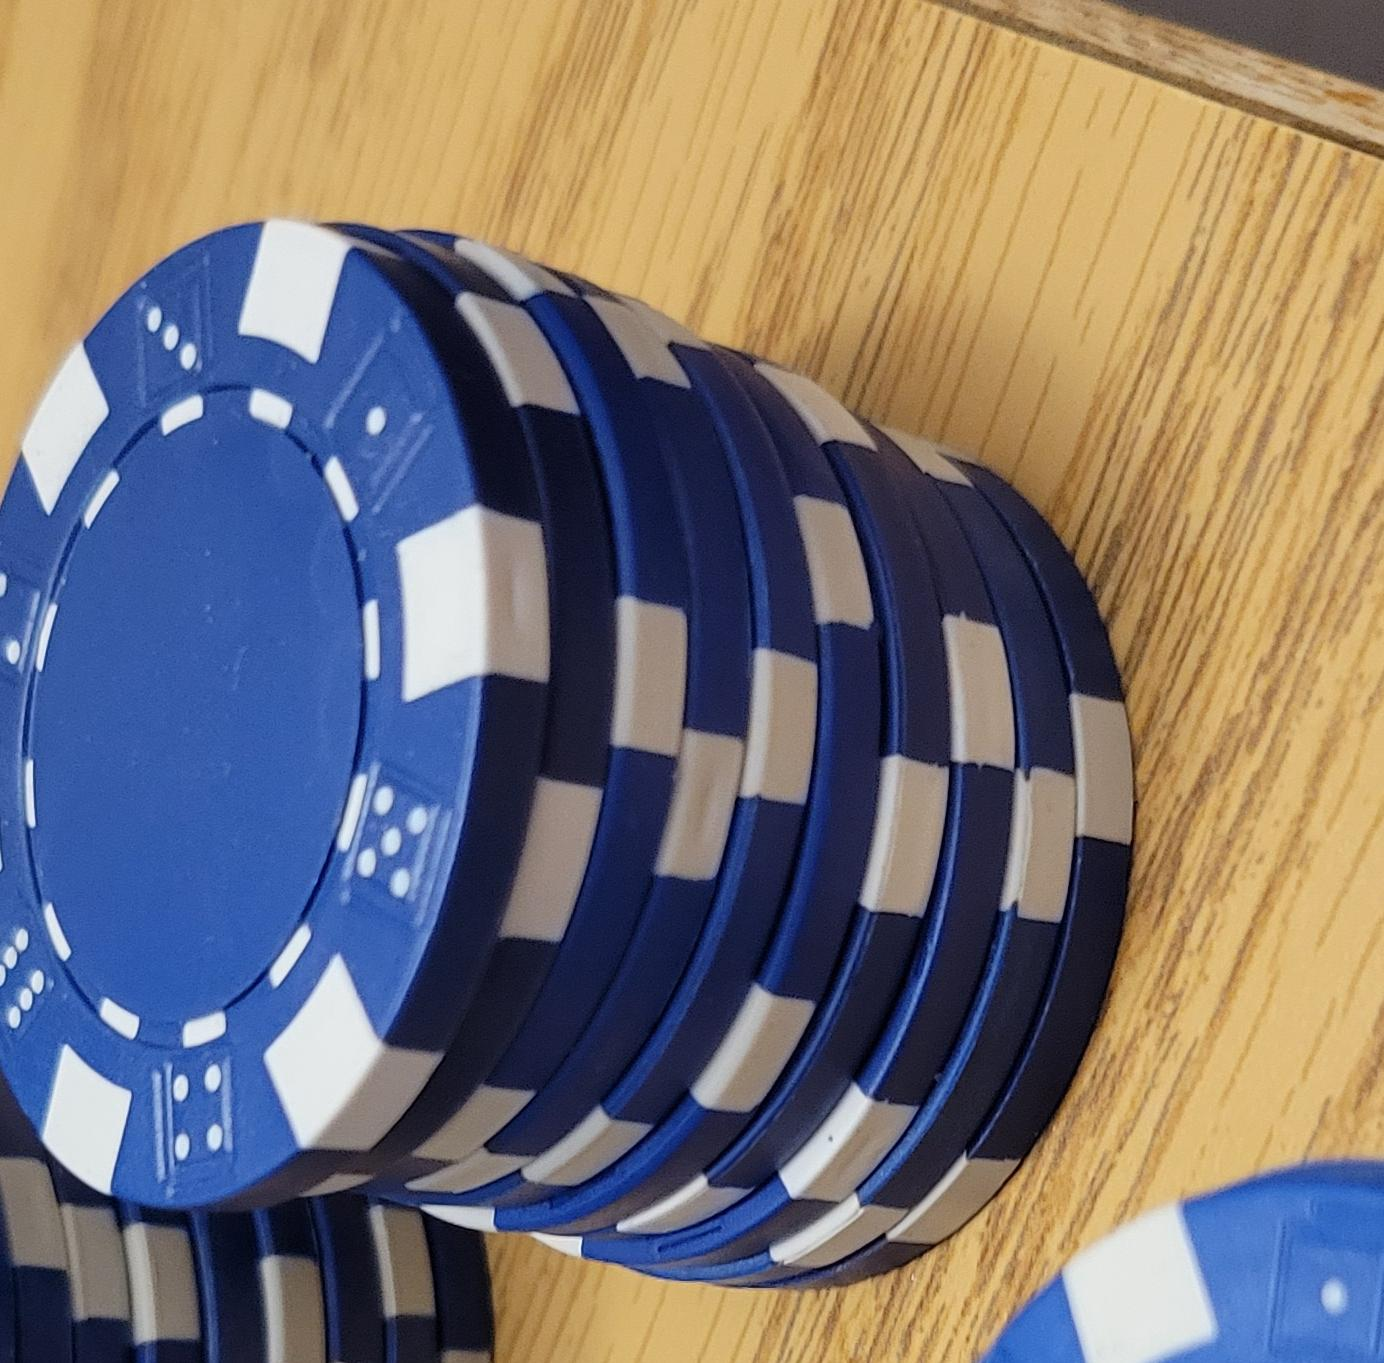Chip: (1, 46, 699, 1363)
